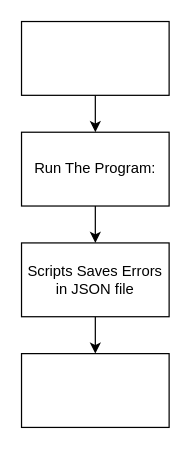
Some shapes in this 191 by 449 pixel diagram are drawn without their labels. Here are the shapes that lost their labels. From the top down, the centre of each, then its label:
At (x=94, y=57): "User".
At (x=94, y=389): "Display Errors in web page: Table (Event ID, Source Name)".
